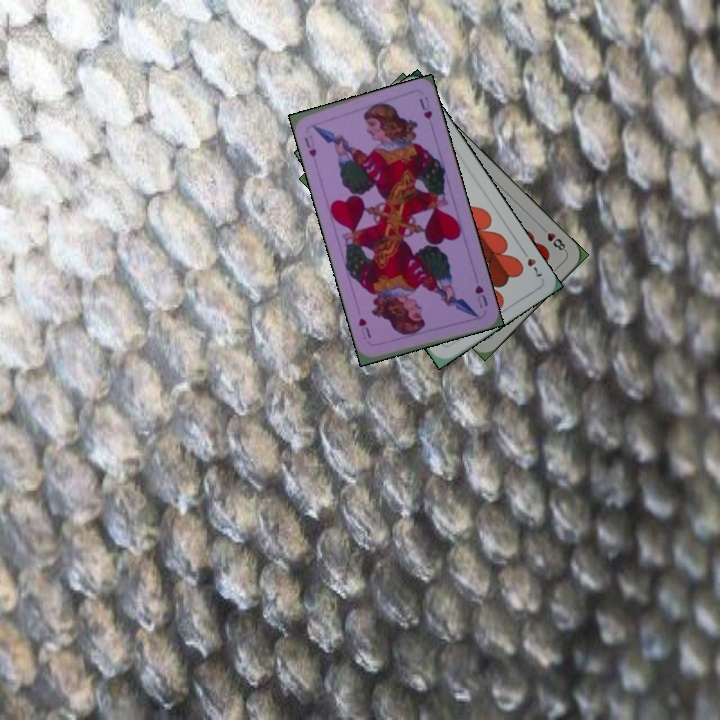H7: (518, 245, 545, 280)
H8: (537, 222, 569, 254)
HU: (471, 281, 490, 310), (300, 133, 319, 160)
